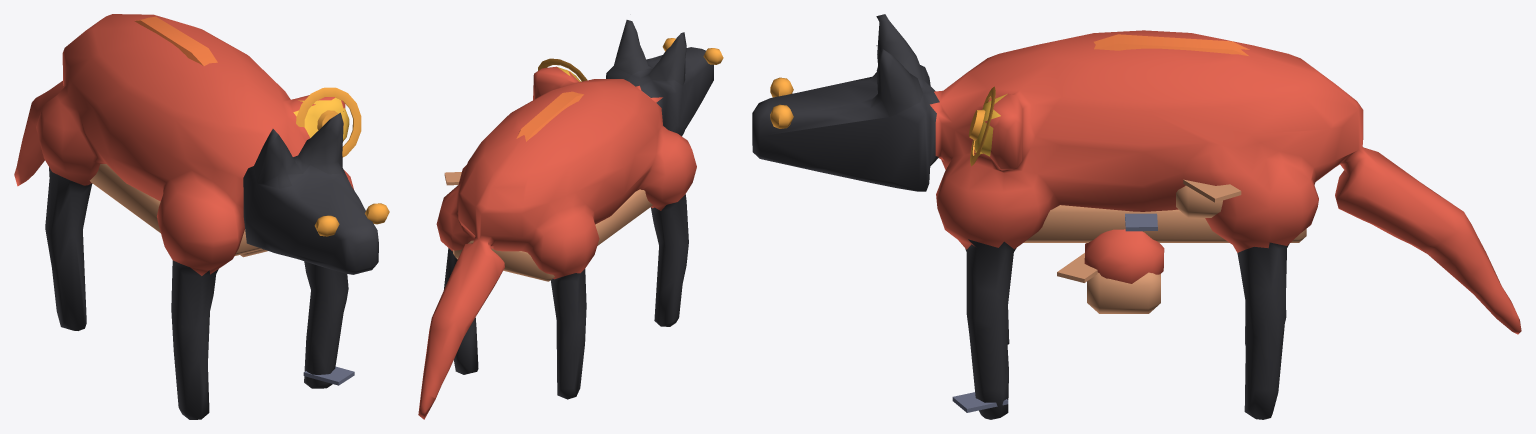
Rendered from cinder_jackal.glb.
3 views of the same model, side by side, from view 1: azimuth 30°, elevation 25°; view 2: azimuth 150°, elevation 25°; view 3: azimuth 270°, elevation 25° (orthographic). The views are drawn at different scales.
Visible parts, largest first — view 1: CinderJackal; view 2: CinderJackal; view 3: CinderJackal.
Boxes of the visible parts, box(x1,y1,x2,y2) form: CinderJackal: box(14, 14, 389, 419); CinderJackal: box(418, 20, 723, 419); CinderJackal: box(752, 14, 1521, 419).
Bounding box in the file's own units: 2 × 3.06 × 5.98.
Materials: 1 (1 with a texture image).
